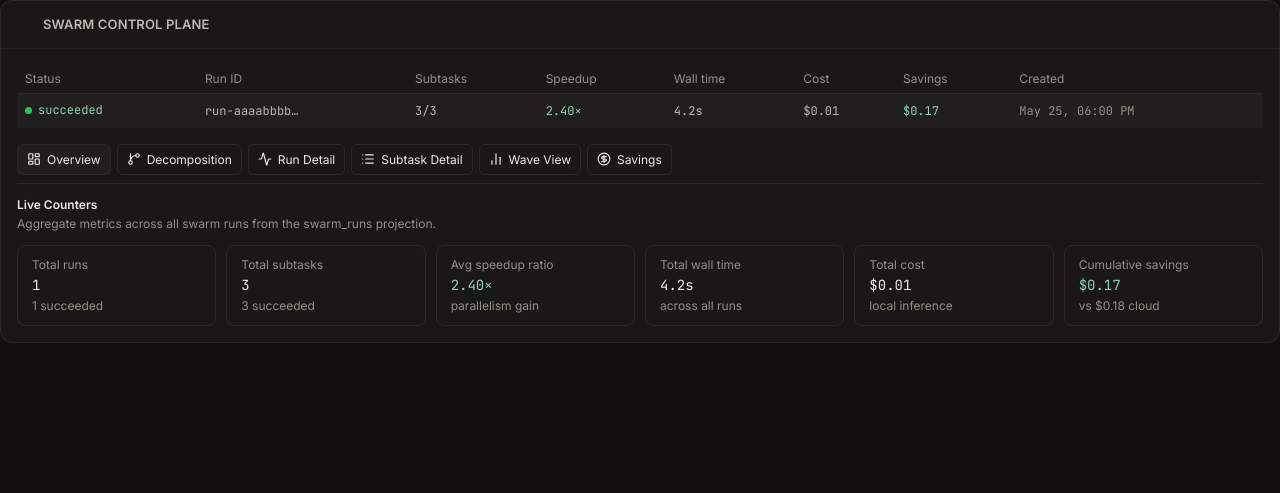
Test: SwarmControlPlane › shows wave visualization in wave tab
Click the tab "Wave View".
click(530, 159)  # box [479,144,581,175]
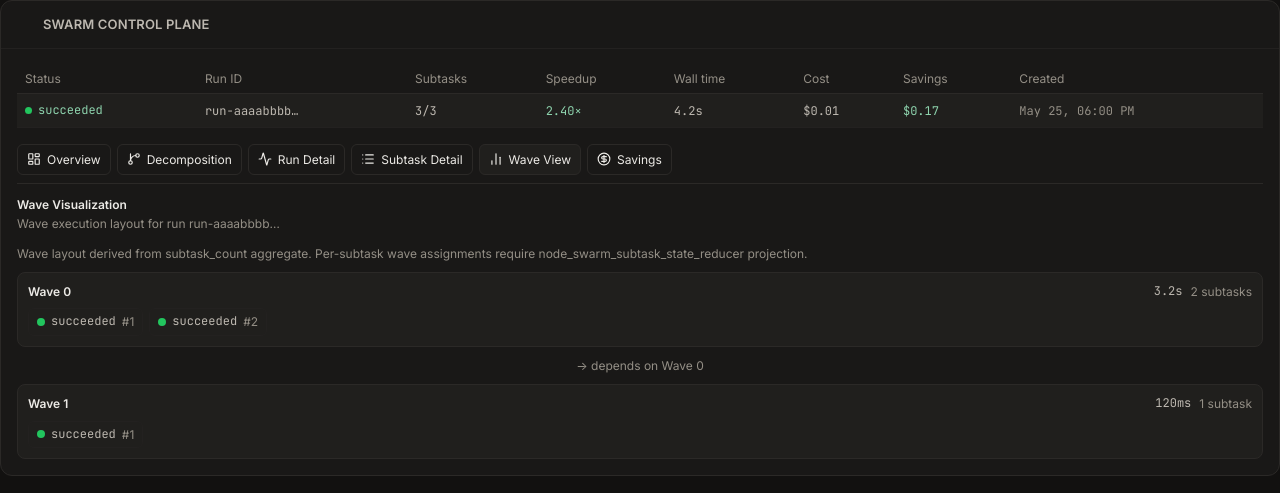
Expected: the text "Wave 0" is shown, [28,283,71,300]
Expected: the text "Wave 1" is shown, [28,395,68,413]
